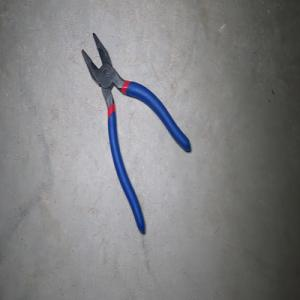Pliers: (81, 32, 191, 234)
